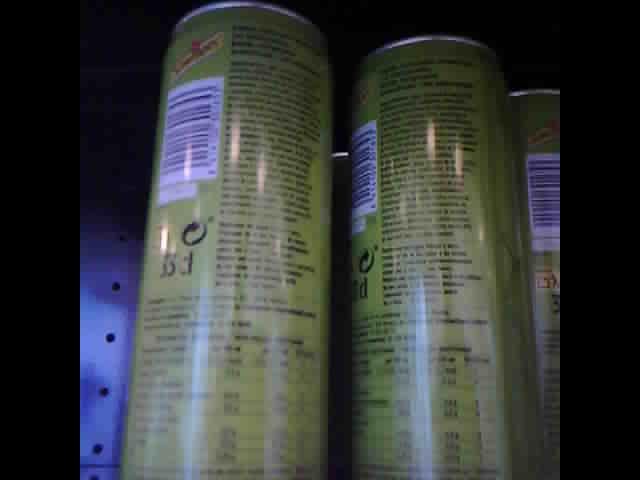schweppes: (119, 1, 337, 476), (346, 20, 514, 476), (488, 64, 558, 476)
